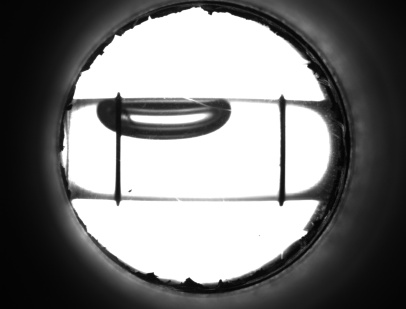line: (273, 113, 291, 187), (109, 143, 124, 186)
